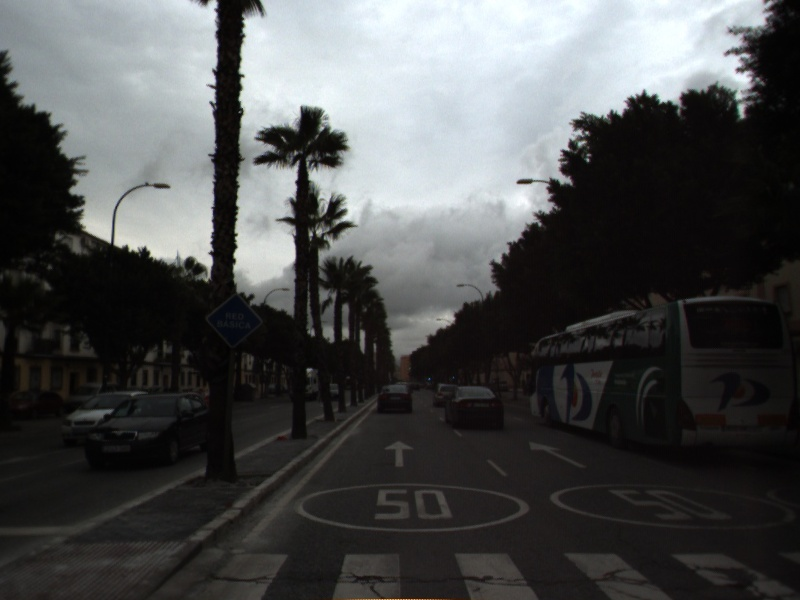STRAIGHT: (527, 439, 589, 470), (382, 439, 417, 469)
